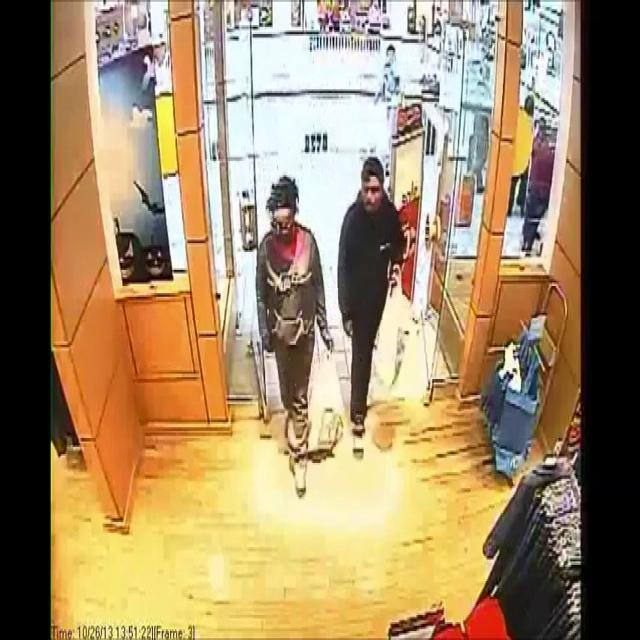normal: (240, 162, 346, 537), (336, 141, 418, 470)
